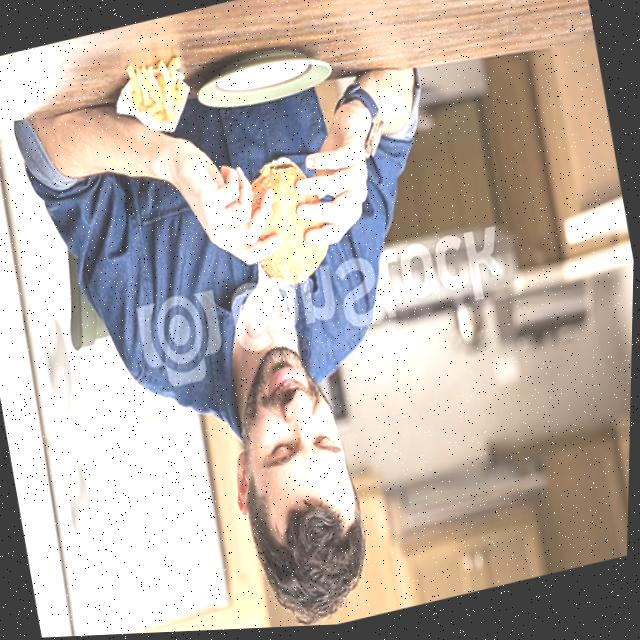eating-person: (0, 0, 526, 640)
